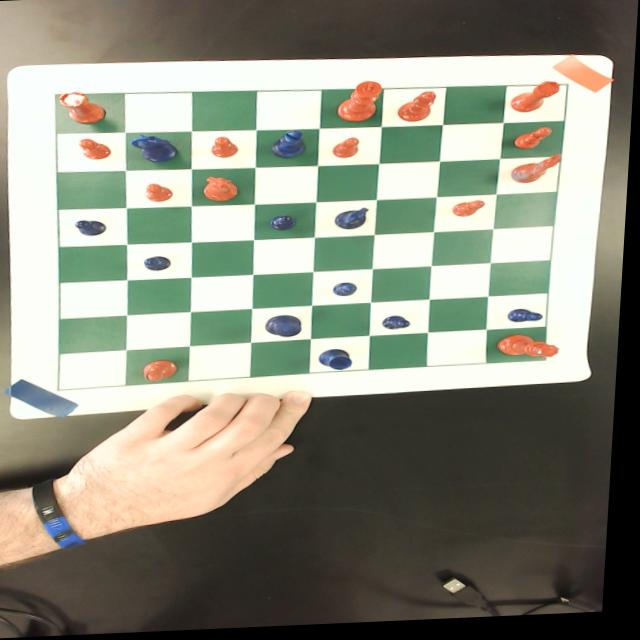B: (270, 131, 311, 161)
K: (269, 316, 308, 340)
N: (126, 132, 186, 166), (333, 209, 375, 235)
P: (76, 219, 111, 238), (510, 312, 548, 328), (271, 216, 300, 233), (386, 318, 416, 333), (147, 257, 175, 272), (335, 284, 361, 299)
R: (322, 351, 357, 374)
b: (398, 93, 439, 125), (145, 360, 183, 383)
k: (340, 83, 384, 125)
n: (508, 158, 566, 188), (203, 177, 244, 204)
p: (514, 130, 555, 153), (78, 138, 115, 160), (213, 137, 242, 160), (454, 203, 489, 222), (333, 139, 362, 161), (146, 183, 177, 203)
q: (500, 337, 565, 363)
r: (55, 90, 109, 126), (512, 85, 564, 117)
